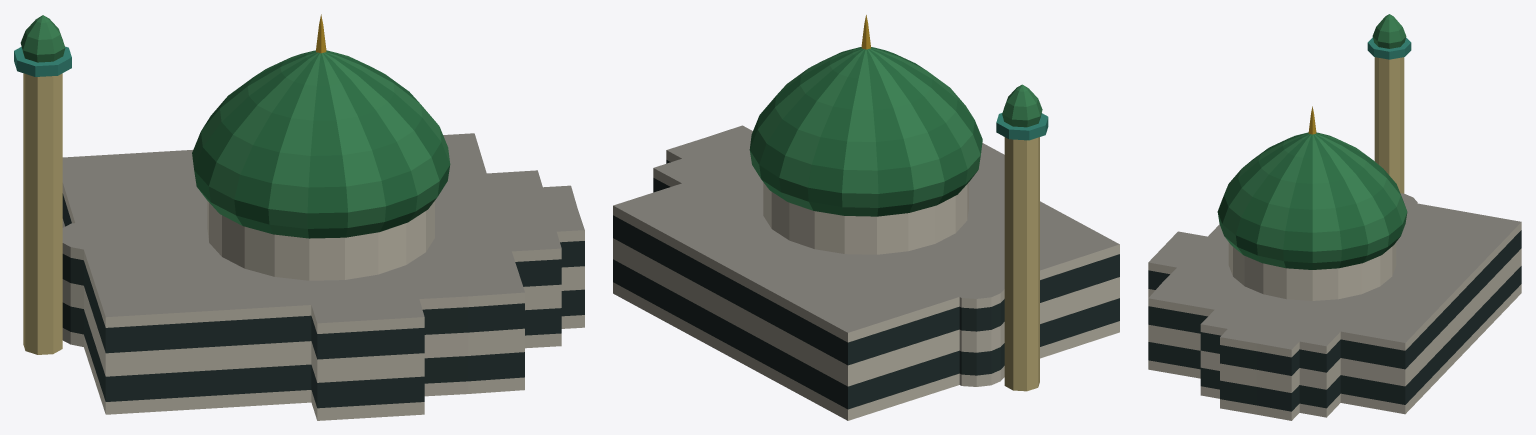
The model's file is masjid-raya-senapelan-lod0.glb.
The picture shows the model from 3 angles, left to right: view 1: azimuth 30°, elevation 25°; view 2: azimuth 150°, elevation 25°; view 3: azimuth 270°, elevation 25°; orthographic projection. The views are drawn at different scales.
Visible parts, largest first — view 1: masjid-raya-senapelan_LOD0; view 2: masjid-raya-senapelan_LOD0; view 3: masjid-raya-senapelan_LOD0.
Part boxes in pixels (x1,y1,x2,y2): masjid-raya-senapelan_LOD0: [14, 14, 584, 420]; masjid-raya-senapelan_LOD0: [613, 15, 1119, 420]; masjid-raya-senapelan_LOD0: [1148, 14, 1521, 420].
Size of the model in its own units: 47.01 by 30.6 by 42.7.
